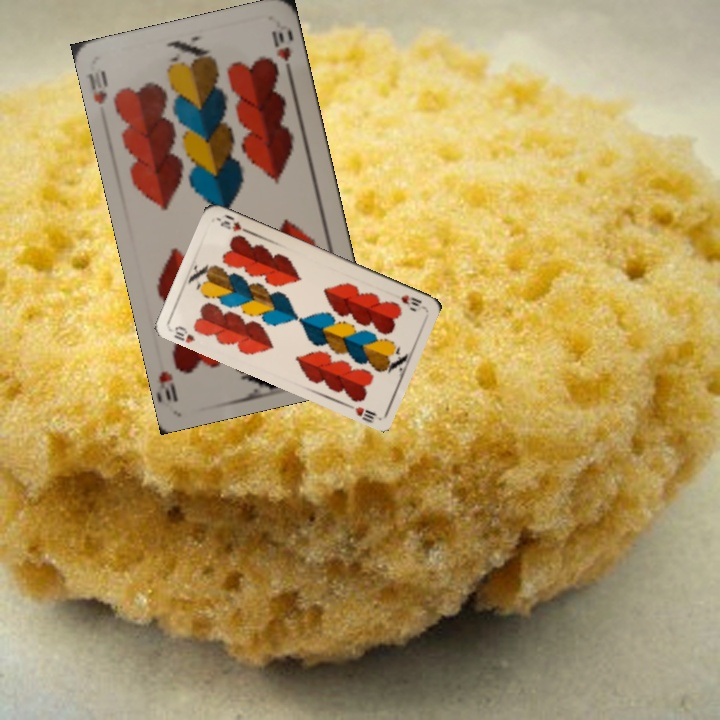H10: (84, 66, 111, 107), (170, 322, 198, 345), (397, 290, 424, 309)
